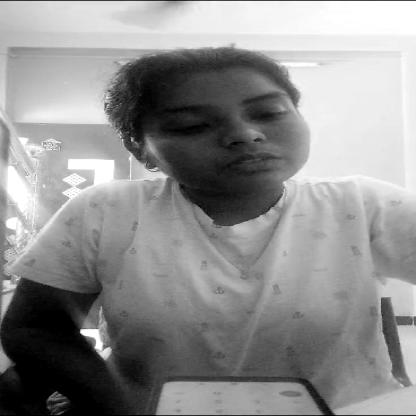Distracted: (98, 45, 340, 186)
